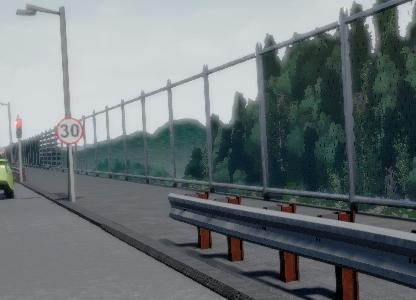Speed_30: (54, 115, 85, 145)
